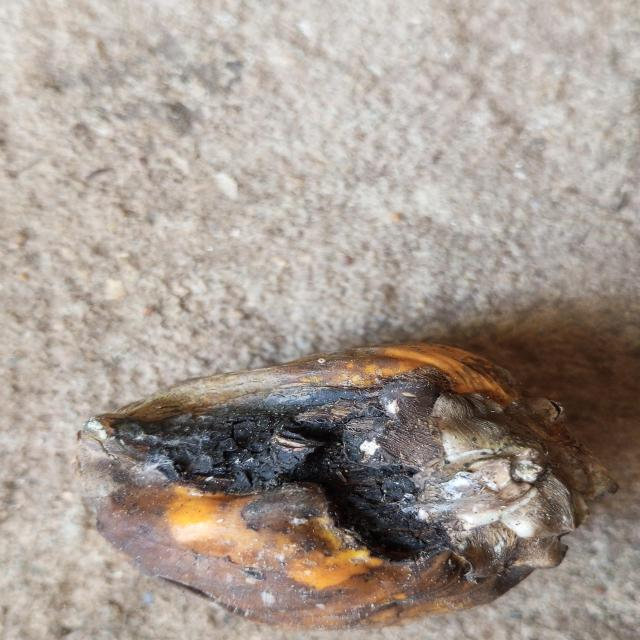damaged: (78, 344, 616, 629)
